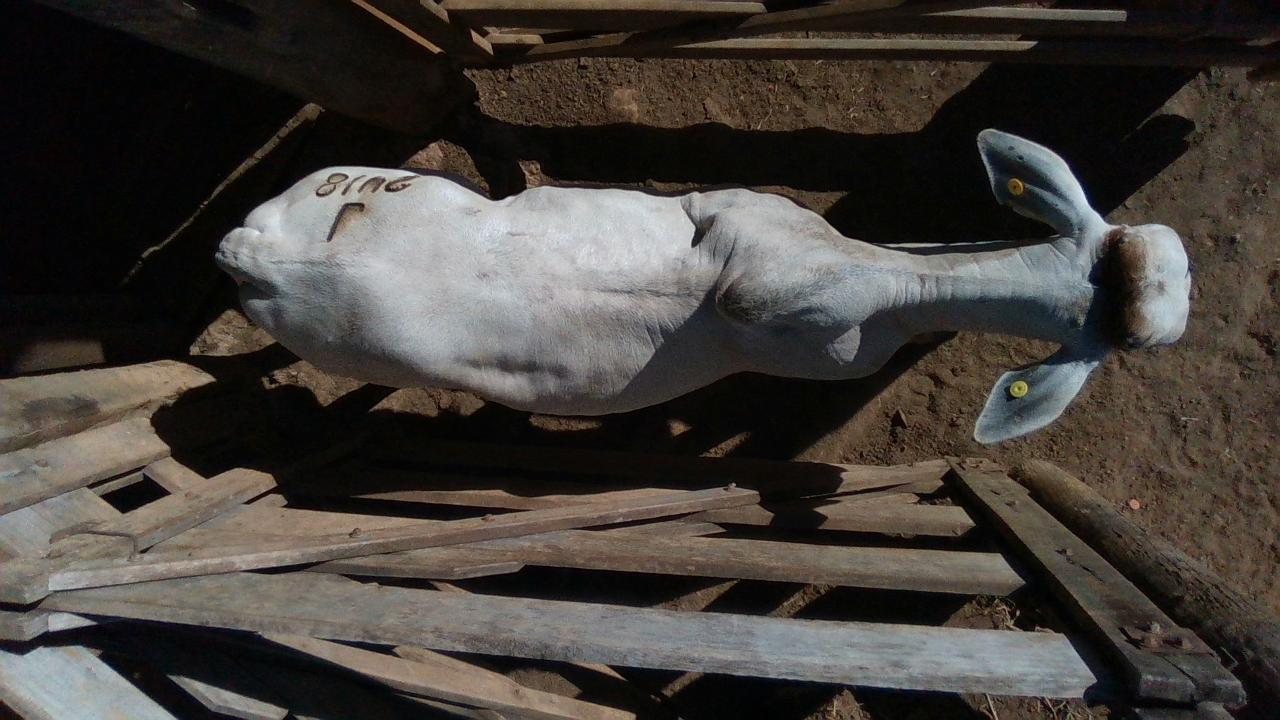cattle: (213, 126, 1192, 443)
